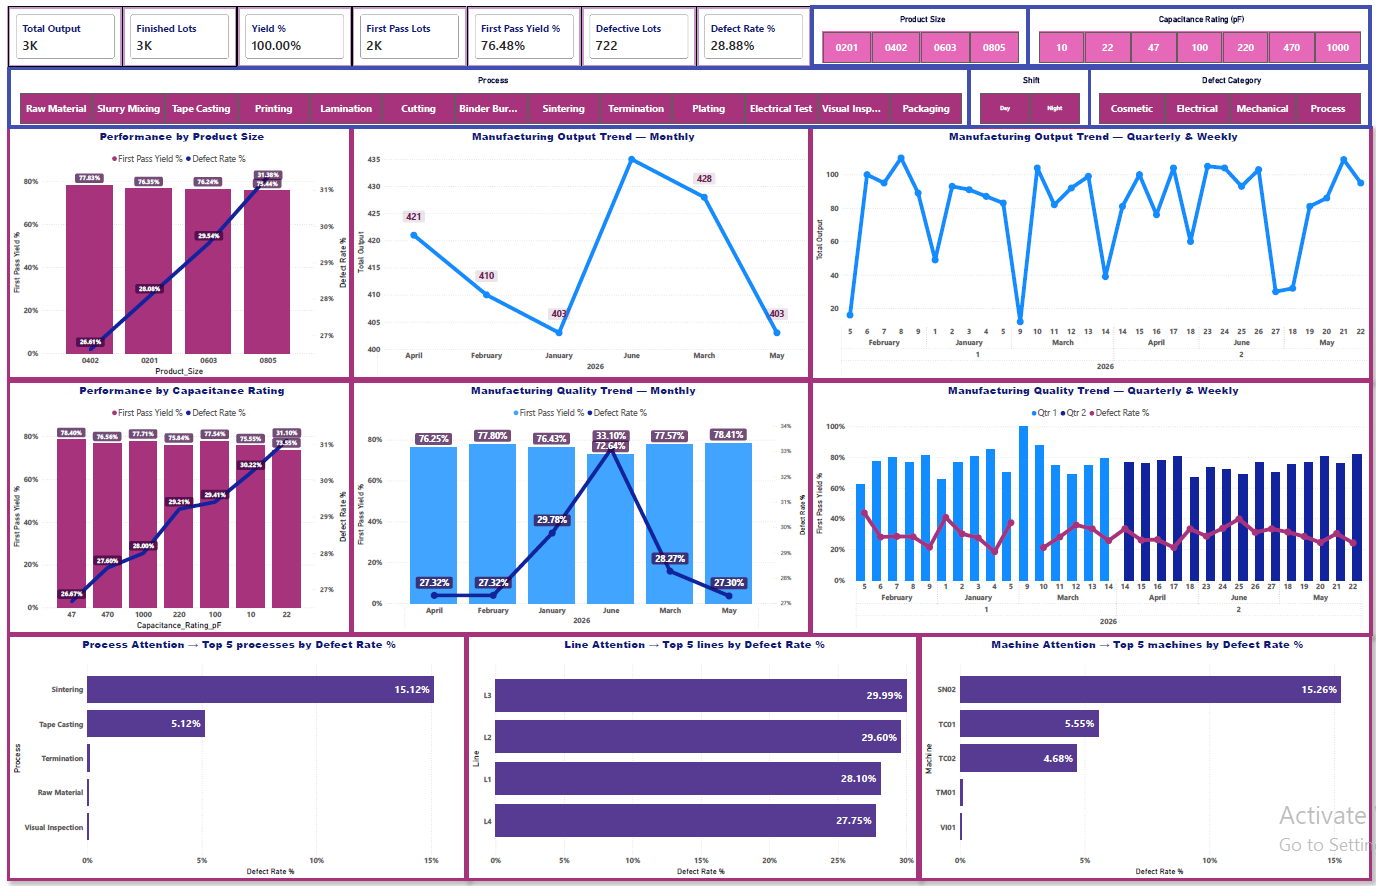

Layout of this report page (visuals, bound fields, positions):
{"tool":"powerbi","page":{"name":"Manufacturing Overview","canvas":[3050,1950],"ordinal":0},"visuals":[{"type":"cardVisual","fields":{"Data":["mlcc_manufacturing fact_manufacturing.Yield %"]},"box":[527.5,17.5,250,132],"z":0},{"type":"cardVisual","fields":{"Data":["mlcc_manufacturing fact_manufacturing.Defective Lots"]},"box":[1277.5,17.5,250,132],"z":1000},{"type":"cardVisual","fields":{"Data":["mlcc_manufacturing fact_manufacturing.Defect Rate %"]},"box":[1527.5,17.5,250,132],"z":2000},{"type":"cardVisual","fields":{"Data":["mlcc_manufacturing fact_manufacturing.First Pass Lots"]},"box":[777.5,17.5,250,132],"z":3000},{"type":"cardVisual","fields":{"Data":["mlcc_manufacturing fact_manufacturing.First Pass Yield %"]},"box":[1027.5,17.5,250,132],"z":4000},{"type":"lineStackedColumnComboChart","title":"Performance by Product Size","fields":{"Category":["mlcc_manufacturing dim_product.Product_Size"],"Y":["mlcc_manufacturing fact_manufacturing.First Pass Yield %"],"Y2":["mlcc_manufacturing fact_manufacturing.Defect Rate %"]},"box":[27.3,279.3,750,554],"z":5000},{"type":"lineStackedColumnComboChart","title":"Performance by Capacitance Rating","fields":{"Category":["mlcc_manufacturing dim_product.Capacitance_Rating_pF"],"Y":["mlcc_manufacturing fact_manufacturing.First Pass Yield %"],"Y2":["mlcc_manufacturing fact_manufacturing.Defect Rate %"]},"box":[27.3,833.3,750,554],"z":6000},{"type":"lineChart","title":"Manufacturing Output Trend — Monthly","fields":{"Category":["mlcc_manufacturing dim_date.Year","mlcc_manufacturing dim_date.Month"],"Y":["mlcc_manufacturing fact_manufacturing.Total Output"]},"box":[777.3,279.3,1000,554],"z":7000},{"type":"lineClusteredColumnComboChart","title":"Manufacturing Quality Trend — Monthly","fields":{"Category":["mlcc_manufacturing dim_date.Year","mlcc_manufacturing dim_date.Month"],"Y":["mlcc_manufacturing fact_manufacturing.First Pass Yield %"],"Y2":["mlcc_manufacturing fact_manufacturing.Defect Rate %"]},"box":[777.3,833.3,1000,554],"z":8000},{"type":"lineChart","title":"Manufacturing Output Trend — Quarterly & Weekly","fields":{"Category":["mlcc_manufacturing dim_date.Year","mlcc_manufacturing dim_date.Quarter","mlcc_manufacturing dim_date.Month","mlcc_manufacturing dim_date.Week"],"Y":["mlcc_manufacturing fact_manufacturing.Total Output"]},"box":[1776.3,278.8,1225,555],"z":9000},{"type":"lineClusteredColumnComboChart","title":"Manufacturing Quality Trend — Quarterly & Weekly","fields":{"Category":["mlcc_manufacturing dim_date.Year","mlcc_manufacturing dim_date.Quarter","mlcc_manufacturing dim_date.Month","mlcc_manufacturing dim_date.Week"],"Series":["mlcc_manufacturing dim_date.Date.Variation.Date Hierarchy.Quarter"],"Y":["mlcc_manufacturing fact_manufacturing.First Pass Yield %"],"Y2":["mlcc_manufacturing fact_manufacturing.Defect Rate %"]},"box":[1776.3,833.8,1225,555],"z":10000},{"type":"slicer","title":"Product Size","fields":{"Values":["mlcc_manufacturing dim_product.Product_Size"]},"box":[1776.7,16.7,478.3,133.3],"z":11000},{"type":"slicer","title":"Capacitance Rating (pF)","fields":{"Values":["mlcc_manufacturing dim_product.Capacitance_Rating_pF"]},"box":[2248.3,16.7,751.7,133.3],"z":12000},{"type":"clusteredBarChart","title":"Process Attention → Top 5 processes by Defect Rate %","fields":{"Category":["mlcc_manufacturing dim_process.Process"],"Y":["mlcc_manufacturing fact_manufacturing.Defect Rate %"]},"box":[26.7,1386.7,1000,536.7],"z":13000},{"type":"clusteredBarChart","title":"Line Attention → Top 5 lines by Defect Rate %","fields":{"Category":["mlcc_manufacturing dim_machine.Line"],"Y":["mlcc_manufacturing fact_manufacturing.Defect Rate %"]},"box":[1026.7,1386.7,986.7,536.7],"z":14000},{"type":"clusteredBarChart","title":"Machine Attention → Top 5 machines by Defect Rate %","fields":{"Category":["mlcc_manufacturing dim_machine.Machine"],"Y":["mlcc_manufacturing fact_manufacturing.Defect Rate %"]},"box":[2013.3,1386.7,986.7,536.7],"z":15000},{"type":"slicer","title":"Process","fields":{"Values":["mlcc_manufacturing dim_process.Process"]},"box":[28,150,2104,134],"z":16000},{"type":"slicer","title":"Defect Category","fields":{"Values":["mlcc_manufacturing fact_manufacturing.Defect_Category"]},"box":[2380,150,620,134.3],"z":17000},{"type":"slicer","title":"Shift","fields":{"Values":["mlcc_manufacturing fact_manufacturing.Shift"]},"box":[2120,150,268.3,133.3],"z":18000},{"type":"cardVisual","fields":{"Data":["mlcc_manufacturing fact_manufacturing.Total Output"]},"box":[28.3,18.3,250,132],"z":19000},{"type":"cardVisual","fields":{"Data":["mlcc_manufacturing fact_manufacturing.Finished Lots"]},"box":[276.7,18.3,250,132],"z":20000}]}

Visuals, with their boxes in screenshot pixels (x1, y1, x2, y2), scaled from the page's 3050x1950 canvas onto the 1376x886 screenshot:
cardVisual - mlcc_manufacturing fact_manufacturing.Yield %: left=238, top=8, right=351, bottom=68
cardVisual - mlcc_manufacturing fact_manufacturing.Defective Lots: left=576, top=8, right=689, bottom=68
cardVisual - mlcc_manufacturing fact_manufacturing.Defect Rate %: left=689, top=8, right=802, bottom=68
cardVisual - mlcc_manufacturing fact_manufacturing.First Pass Lots: left=351, top=8, right=464, bottom=68
cardVisual - mlcc_manufacturing fact_manufacturing.First Pass Yield %: left=464, top=8, right=576, bottom=68
"Performance by Product Size" lineStackedColumnComboChart: left=12, top=127, right=351, bottom=379
"Performance by Capacitance Rating" lineStackedColumnComboChart: left=12, top=379, right=351, bottom=630
"Manufacturing Output Trend — Monthly" lineChart: left=351, top=127, right=802, bottom=379
"Manufacturing Quality Trend — Monthly" lineClusteredColumnComboChart: left=351, top=379, right=802, bottom=630
"Manufacturing Output Trend — Quarterly & Weekly" lineChart: left=801, top=127, right=1354, bottom=379
"Manufacturing Quality Trend — Quarterly & Weekly" lineClusteredColumnComboChart: left=801, top=379, right=1354, bottom=631
"Product Size" slicer: left=802, top=8, right=1017, bottom=68
"Capacitance Rating (pF)" slicer: left=1014, top=8, right=1353, bottom=68
"Process Attention → Top 5 processes by Defect Rate %" clusteredBarChart: left=12, top=630, right=463, bottom=874
"Line Attention → Top 5 lines by Defect Rate %" clusteredBarChart: left=463, top=630, right=908, bottom=874
"Machine Attention → Top 5 machines by Defect Rate %" clusteredBarChart: left=908, top=630, right=1353, bottom=874
"Process" slicer: left=13, top=68, right=962, bottom=129
"Defect Category" slicer: left=1074, top=68, right=1353, bottom=129
"Shift" slicer: left=956, top=68, right=1077, bottom=129
cardVisual - mlcc_manufacturing fact_manufacturing.Total Output: left=13, top=8, right=126, bottom=68
cardVisual - mlcc_manufacturing fact_manufacturing.Finished Lots: left=125, top=8, right=238, bottom=68
